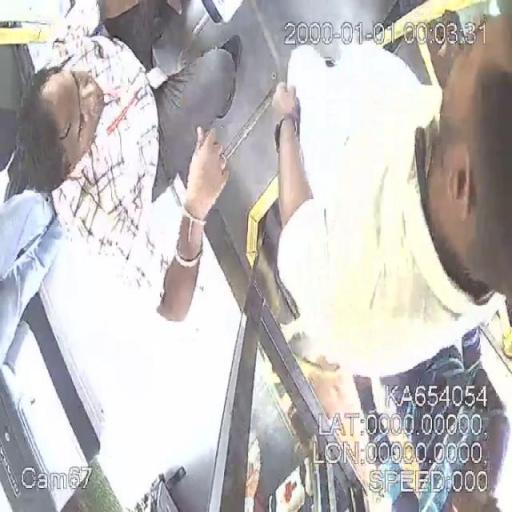persona: (270, 20, 511, 384), (2, 4, 239, 332)
